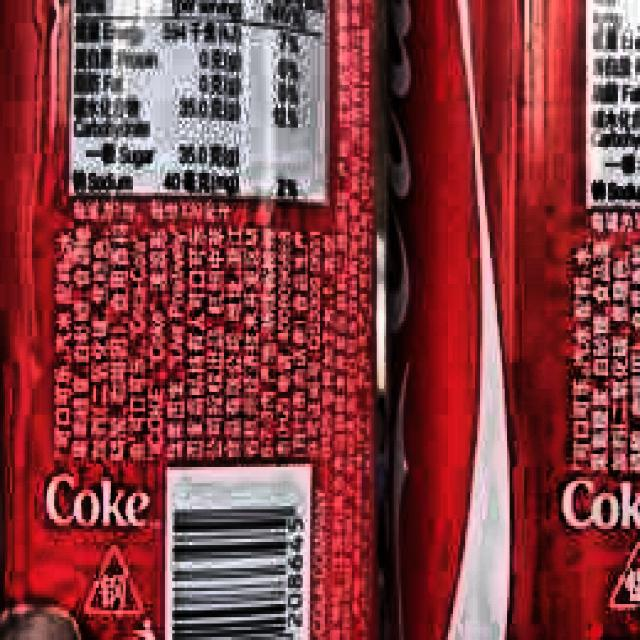metal: (0, 0, 391, 640), (386, 0, 640, 640)
